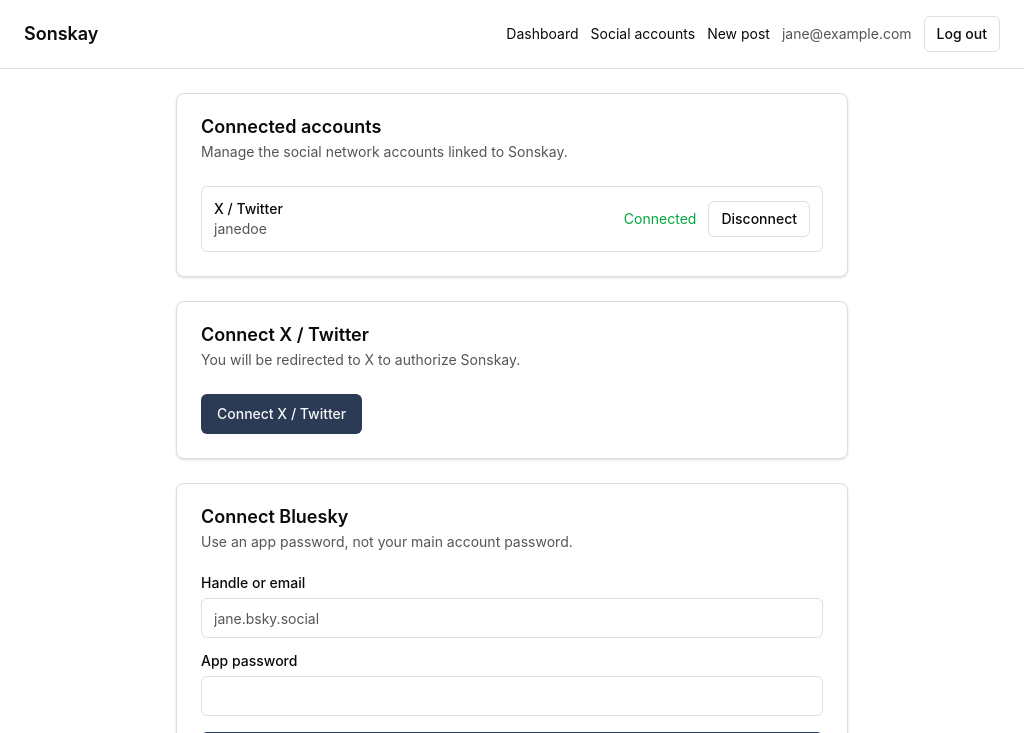
social accounts page › disconnects an account and refreshes the list
Check: the text "janedoe" is shown, box [214, 220, 267, 237]
Click the button "Disconnect".
click(759, 219)  # box [708, 201, 810, 237]
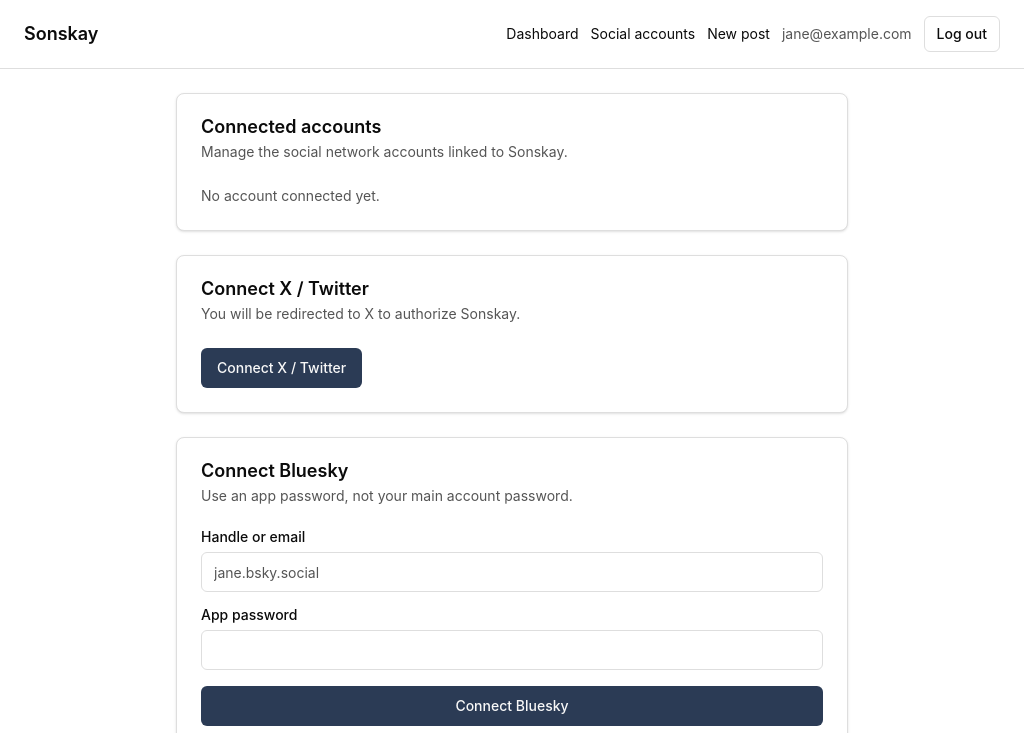
Check: the text "No account connected yet." is shown, box [201, 187, 380, 204]
